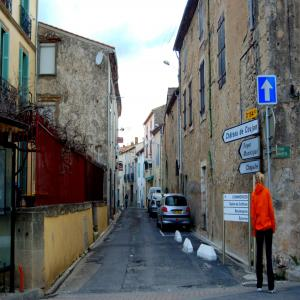Vehicle-registration-plate: (174, 211, 184, 216)
